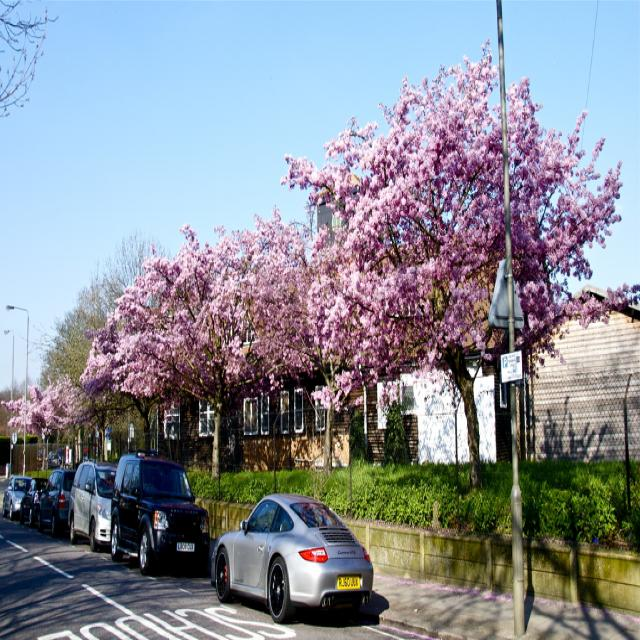other: (2, 449, 212, 574), (204, 495, 368, 629)
